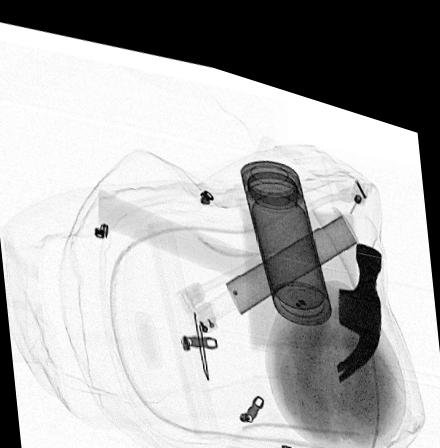Hammer: (98, 182, 382, 361)
